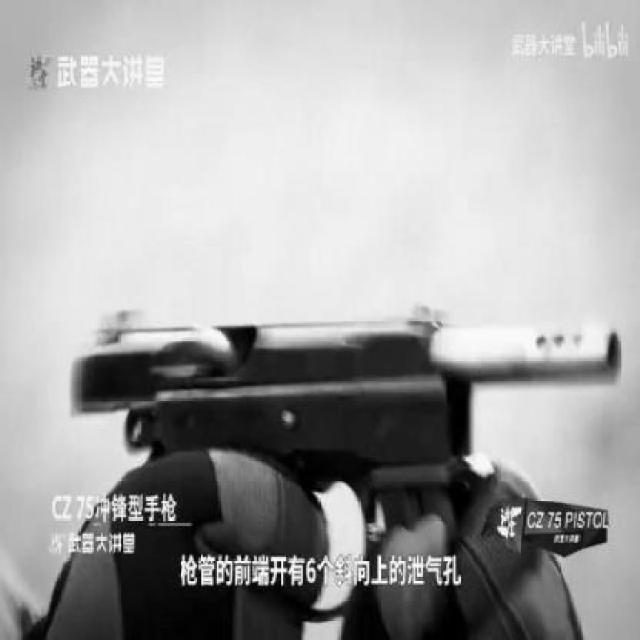weapon: (73, 289, 578, 634)
